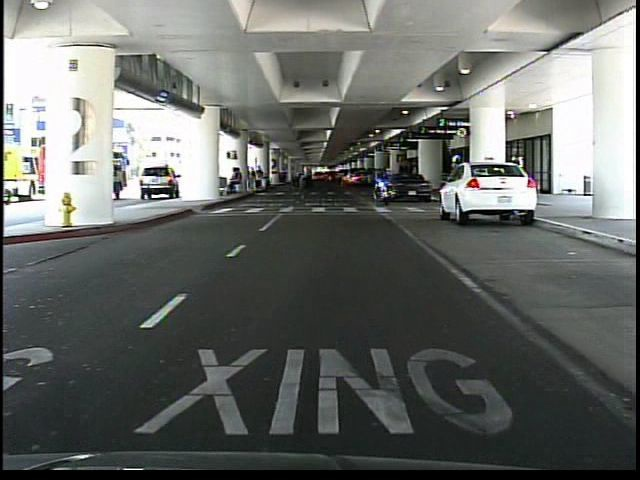person: (447, 151, 465, 218)
